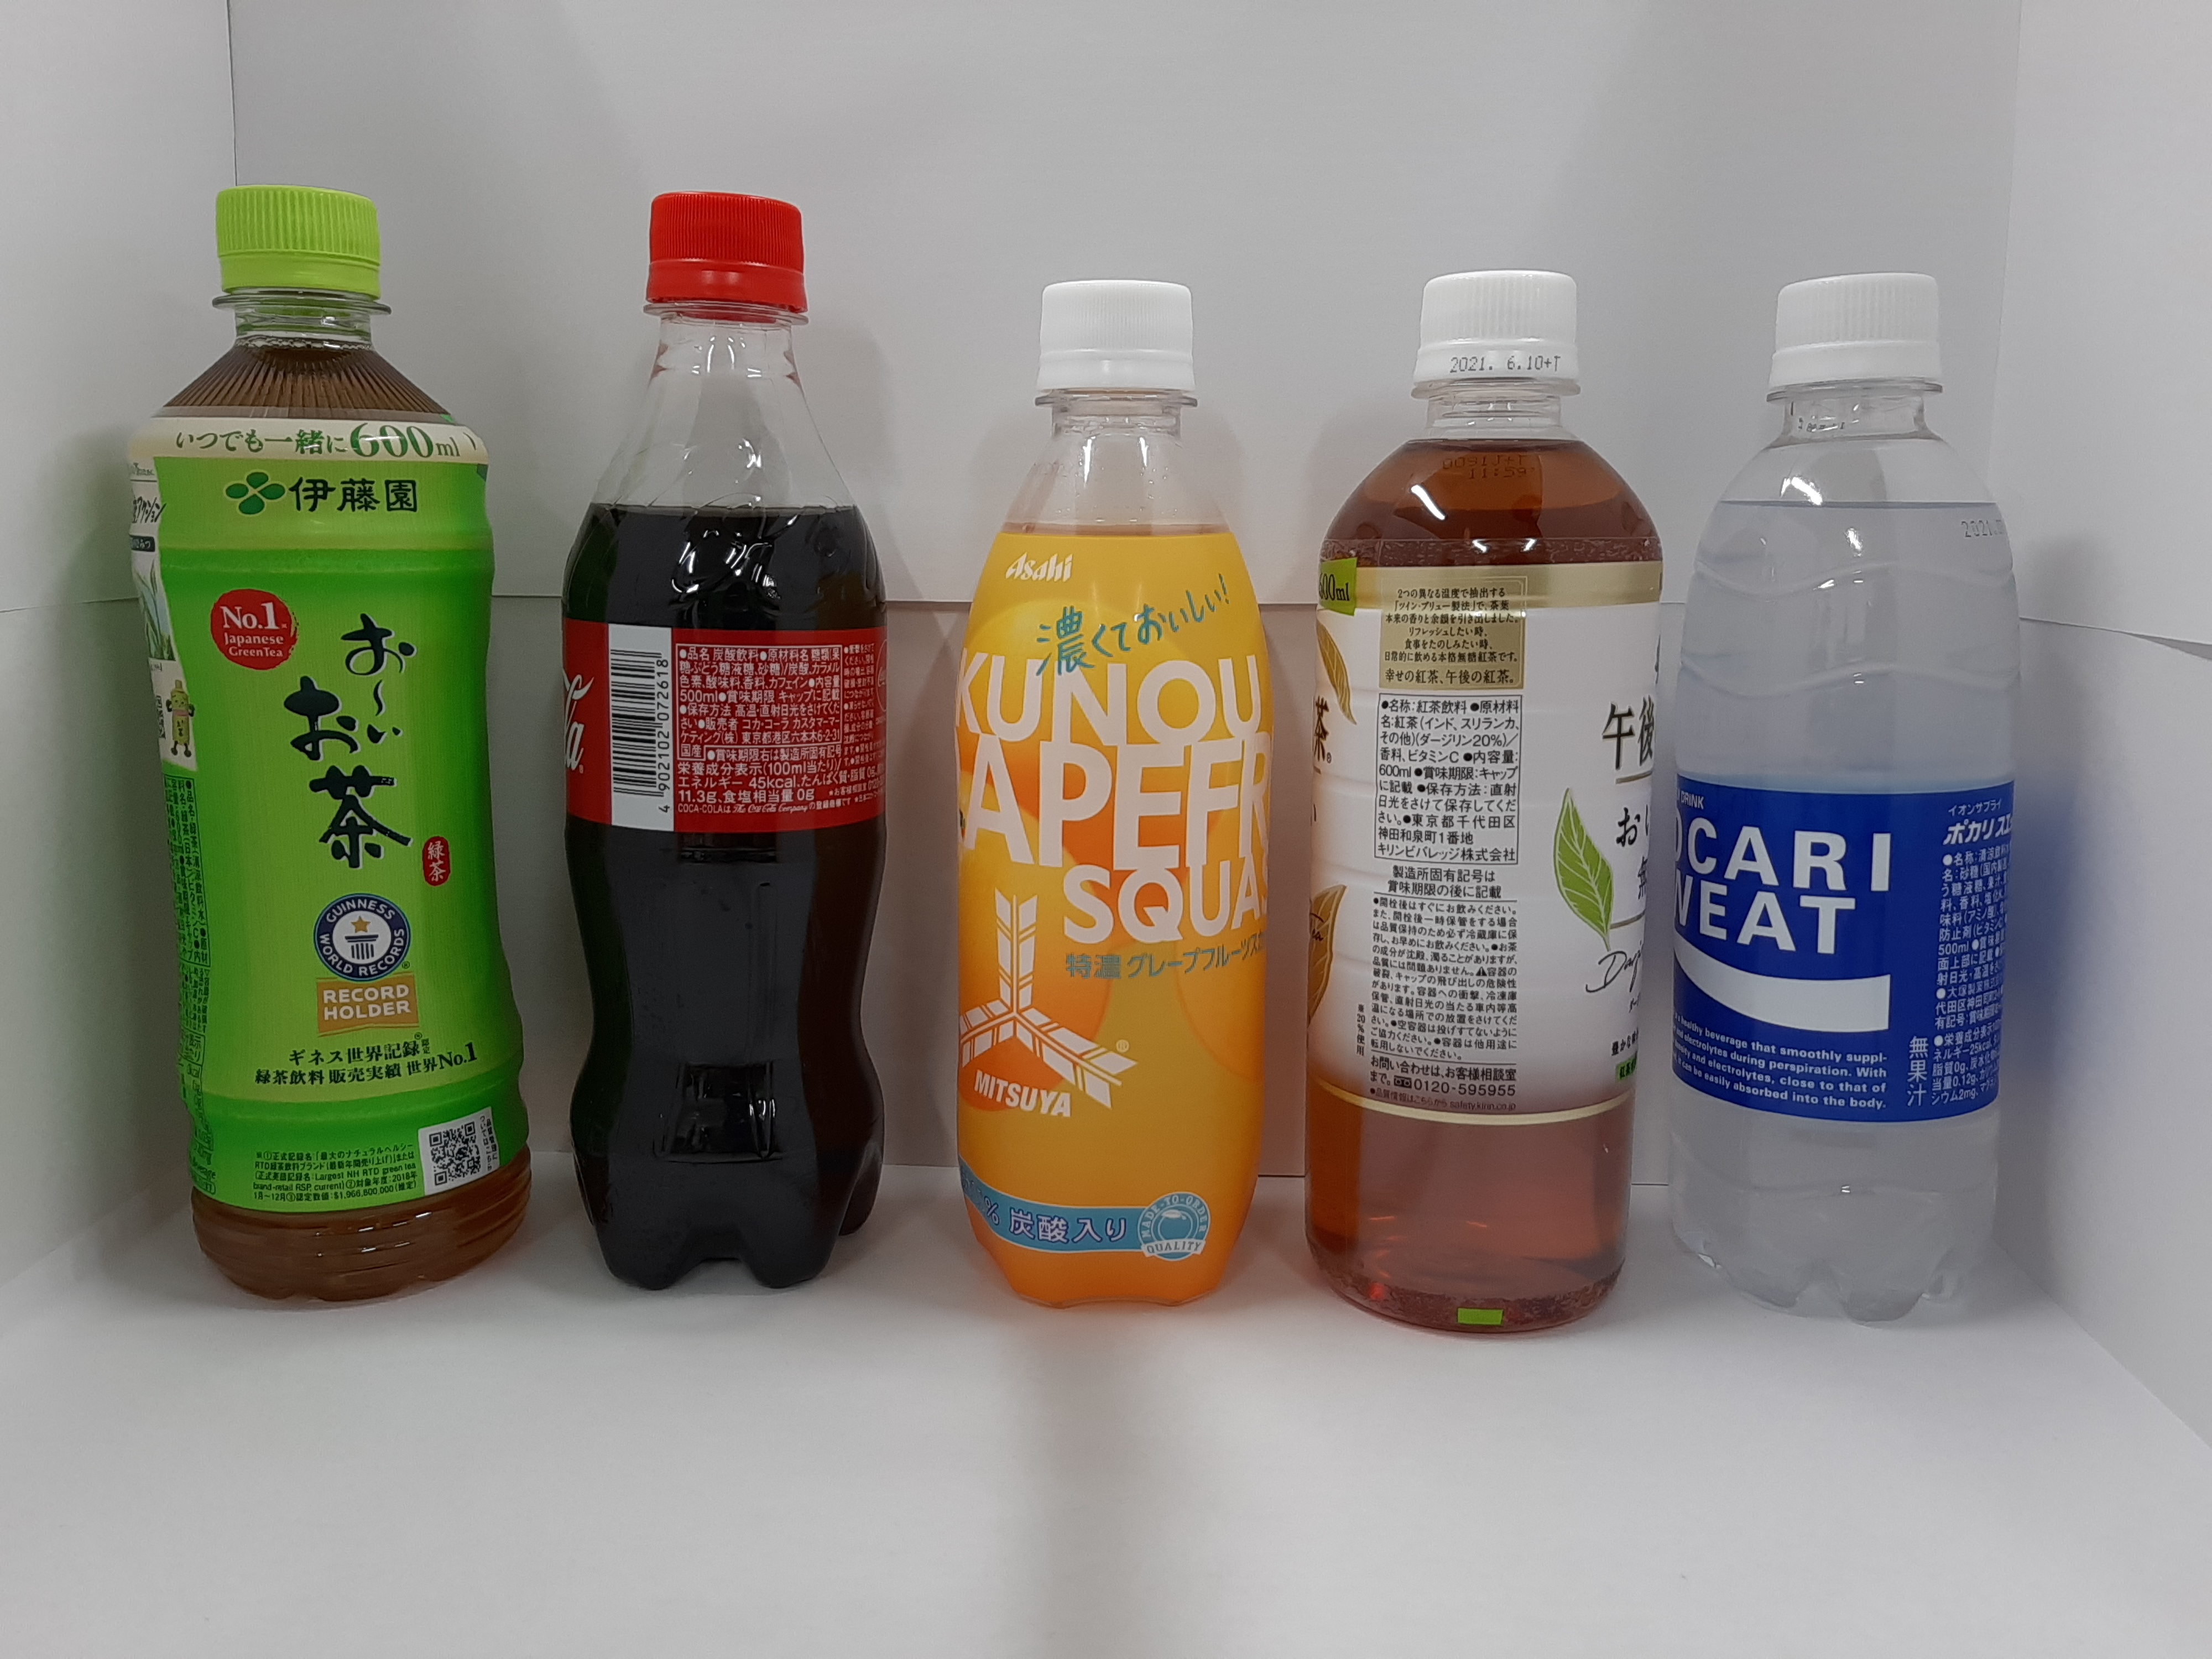おーいお茶: (99, 157, 557, 1335)
グレープフルーツスカッシュ: (928, 240, 1287, 1342)
コーラ: (540, 173, 909, 1324)
ポカリスエット: (1674, 218, 2038, 1359)
午後の紅茶: (1298, 234, 1674, 1352)
